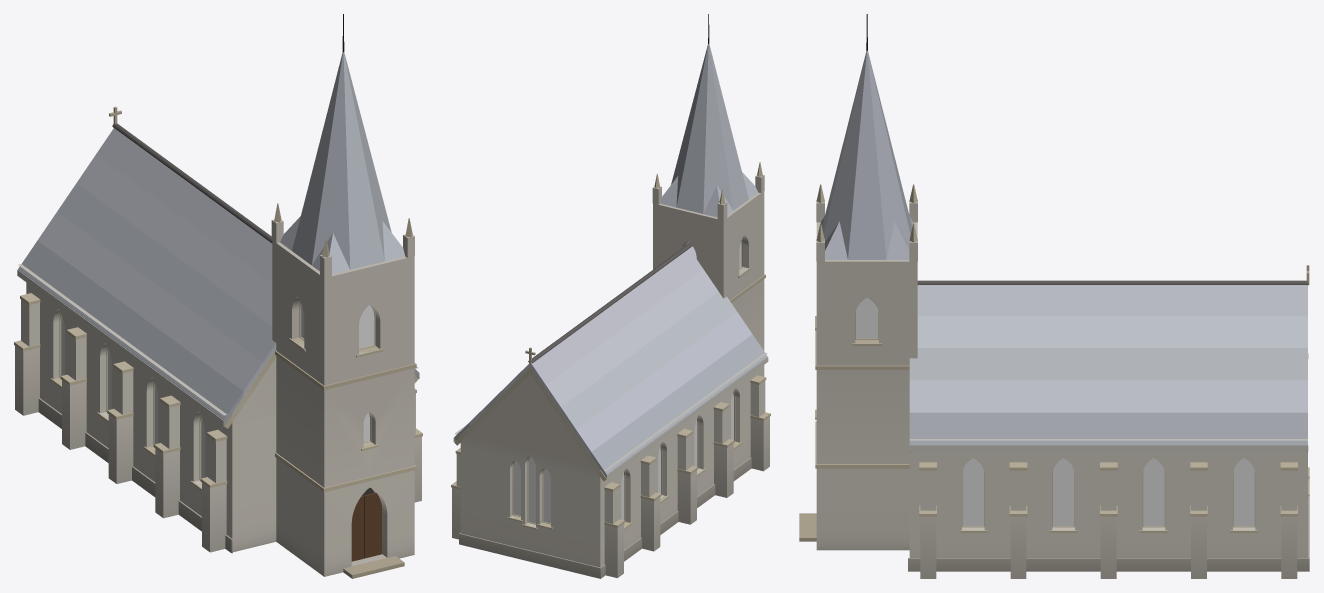
Rendered from town_church_a_lod2.glb.
3 views of the same model, side by side, from view 1: azimuth 30°, elevation 25°; view 2: azimuth 150°, elevation 25°; view 3: azimuth 270°, elevation 25° (orthographic). The views are drawn at different scales.
Visible parts, largest first — view 1: body; view 2: body; view 3: body.
Part boxes in pixels (<box>): body: <box>14,14,422,578</box>; body: <box>451,14,770,578</box>; body: <box>799,14,1309,578</box>.
Size of what is drawn, in the model's own units: 8.96 by 21.4 by 19.21.
